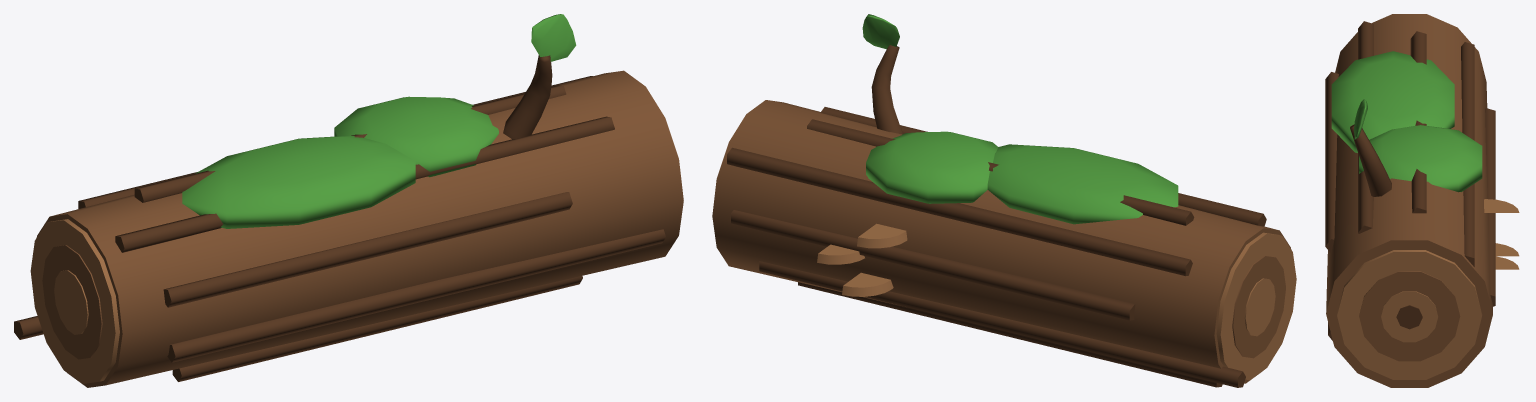
File: Log.glb
The picture shows the model from 3 angles, left to right: view 1: azimuth 30°, elevation 25°; view 2: azimuth 150°, elevation 25°; view 3: azimuth 270°, elevation 25°; orthographic projection. The views are drawn at different scales.
Parts seen in each view (by area): view 1: Body; view 2: Body; view 3: Body.
Boxes of the visible parts, x1,y1,x2,y2 form: Body: (14,14,683,387); Body: (712,14,1296,387); Body: (1325,14,1519,387).
Bounding box in the file's own units: 5.27 × 2.45 × 1.79.
Materials: 1 (1 with a texture image).
